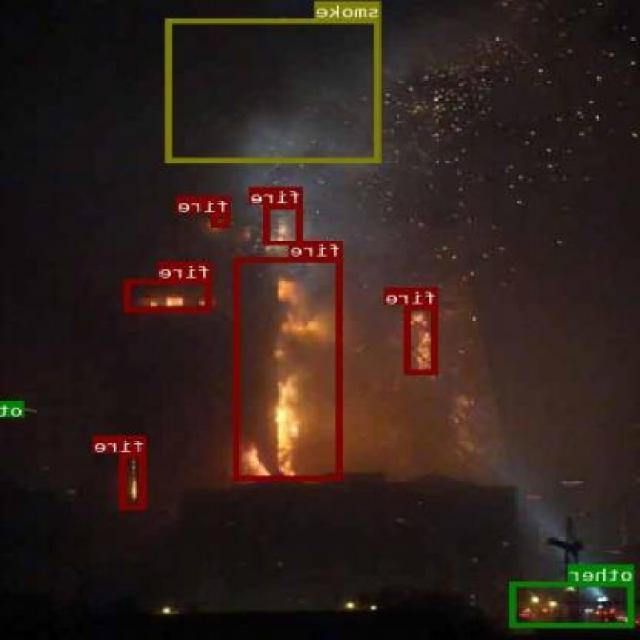Fire: (235, 256, 343, 478), (126, 278, 214, 311), (406, 304, 439, 372), (121, 452, 148, 510), (266, 203, 304, 243), (212, 212, 232, 228)
Smoke: (167, 18, 382, 162)
